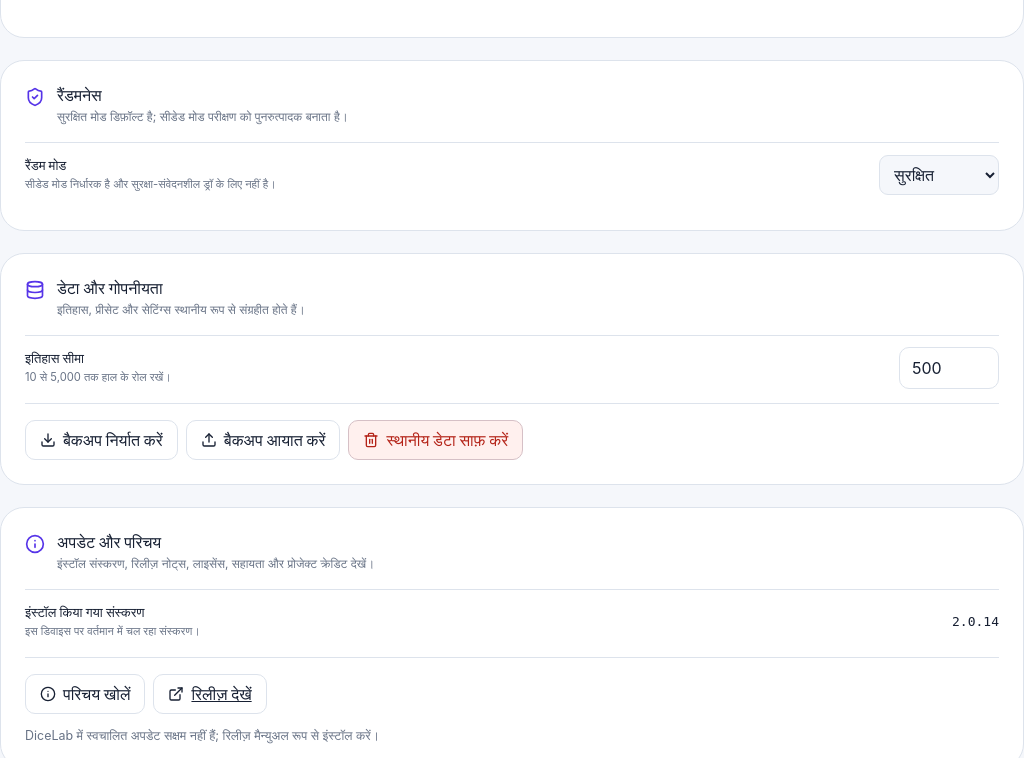
Scenario: SettingsPanel localized backup failures › shows a generic Hindi message for an unknown backup export failure
(page scrolled)
Click the button "बैकअप निर्यात करें".
click(101, 440)  # box 25,420 -> 178,460
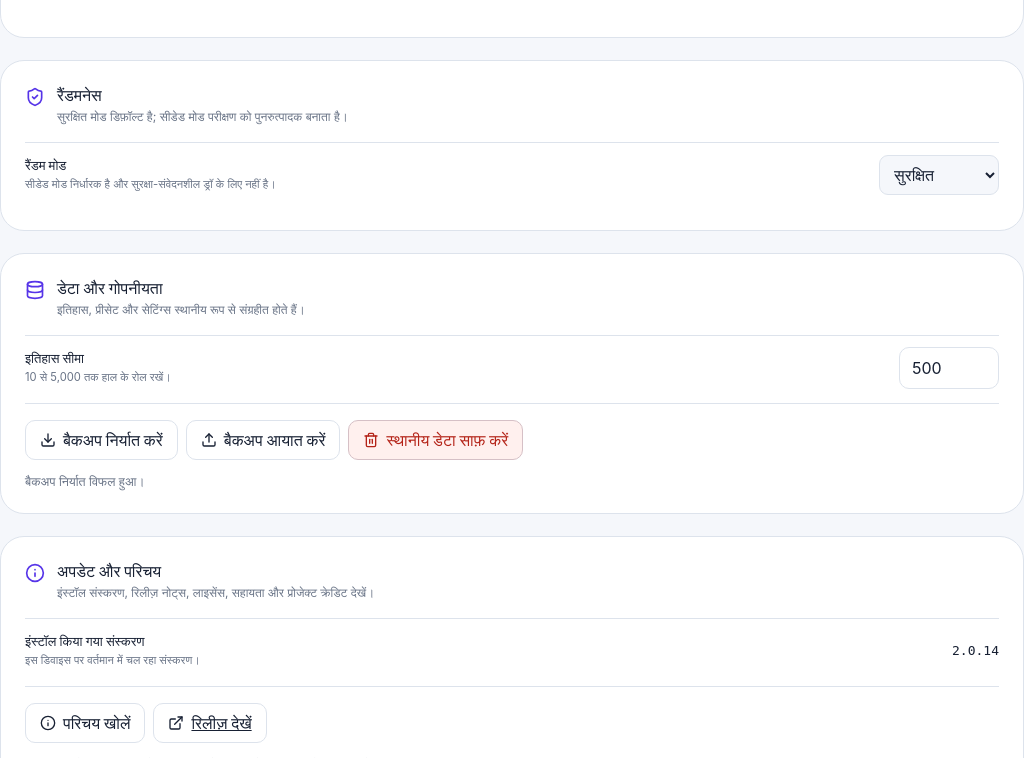
Expected: the message reads "बैकअप निर्यात विफल हुआ।", 25,474 -> 145,489
